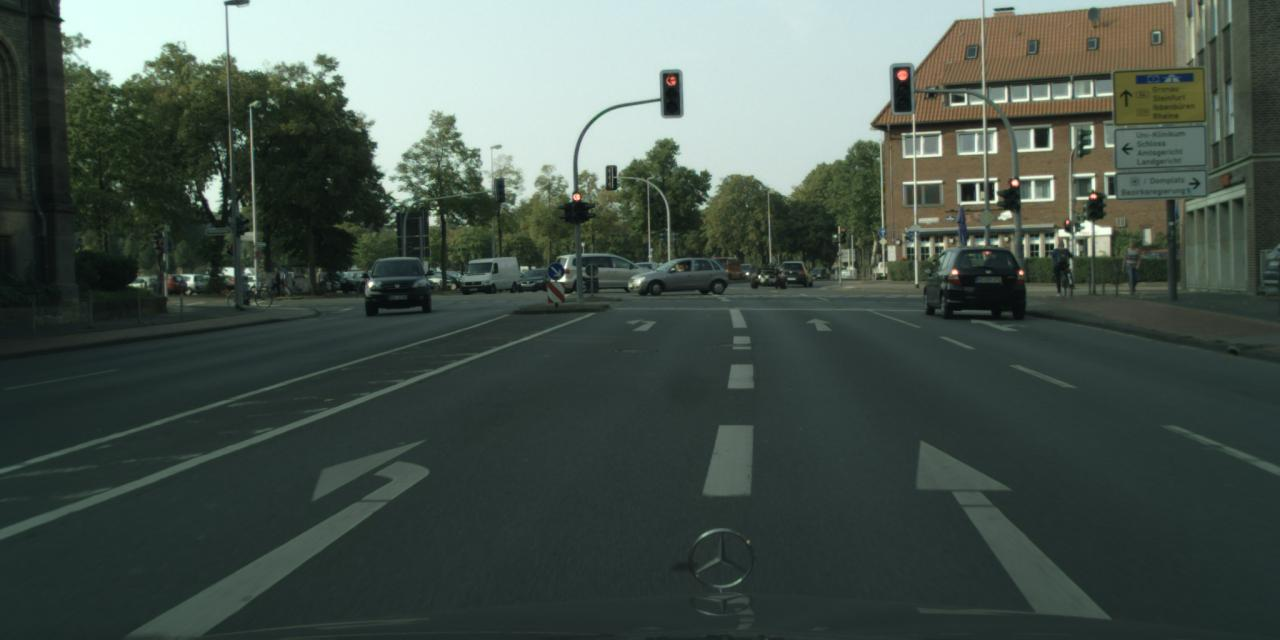ped: (1120, 238, 1142, 293), (1052, 240, 1072, 290), (234, 265, 249, 303), (656, 258, 666, 286), (359, 267, 370, 292), (314, 267, 324, 293), (279, 265, 289, 291), (270, 267, 280, 292), (338, 269, 347, 292)
